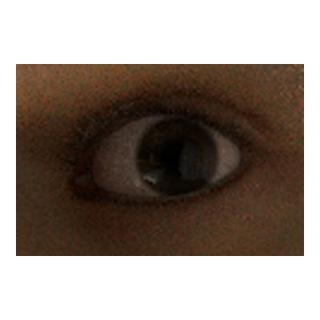pupil: (163, 142, 192, 171)
